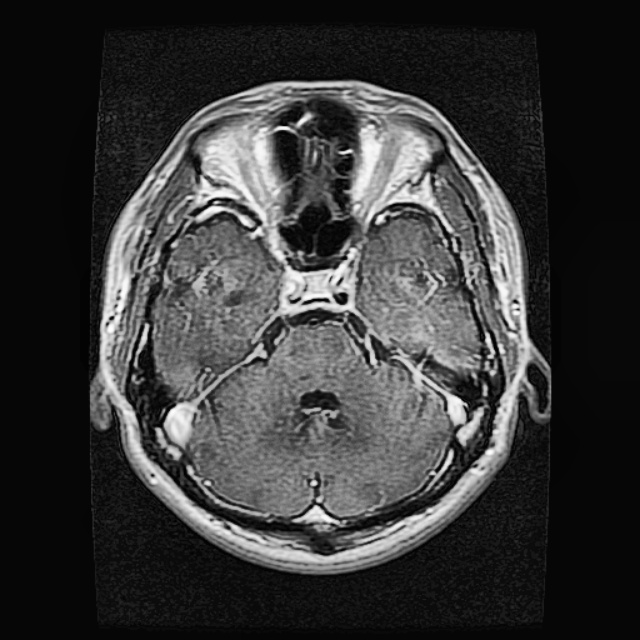Glioma: (163, 242, 254, 319)
